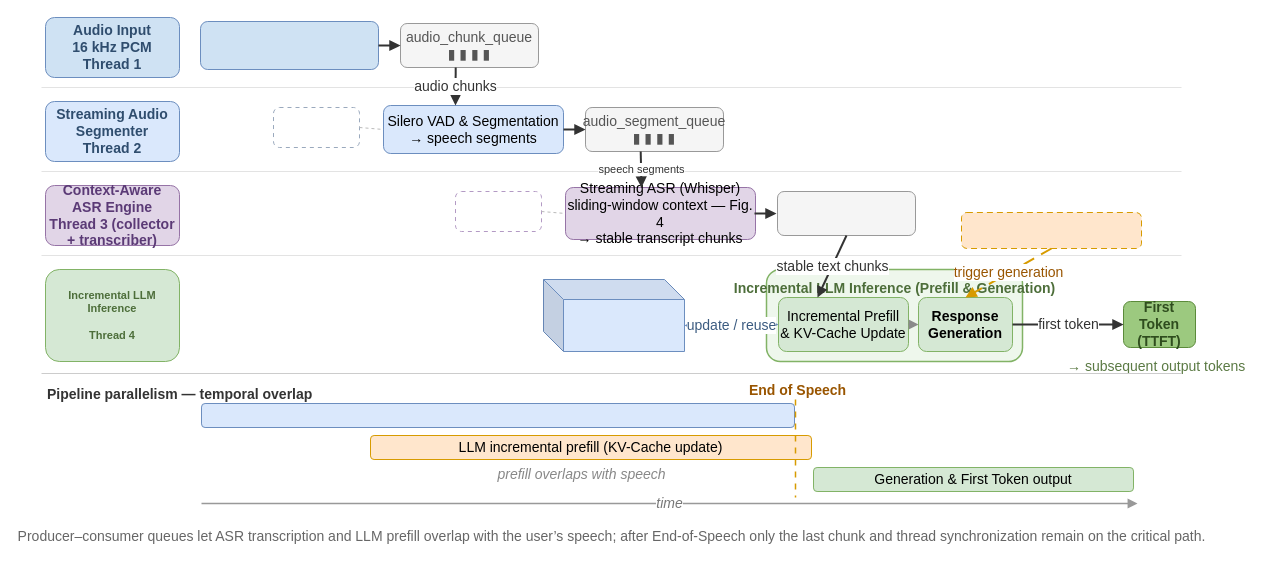
Some shapes in this 1262 by 567 pixel diagram are drawn without their labels. Here are the shapes that lost their labels. From the top down, the box of each, then its label:
(200, 20, 378, 70): Audio Chunk Generator continuous 16 kHz PCM · 500 ms chunks
(272, 106, 360, 148): StreamState
(454, 190, 542, 232): ASRCache
(776, 190, 916, 236): text_chunk_queue ▮ ▮ ▮ ▮
(960, 212, 1142, 248): End Marker / End of Speech control signal (from VAD)
(542, 278, 684, 352): KV Cache (VRAM) past_key_values attention_mask
(200, 402, 794, 428): Audio arrival & streaming ASR (during user speech)
